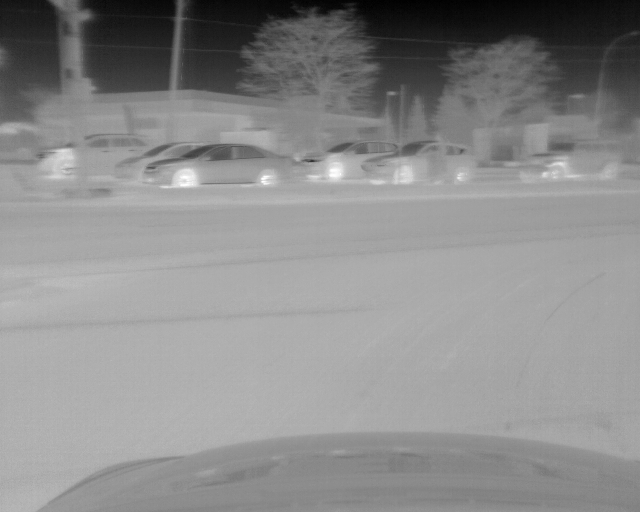car: (145, 144, 292, 187), (37, 133, 151, 181), (360, 142, 474, 185), (517, 137, 620, 181), (116, 142, 208, 185), (301, 140, 399, 180)
